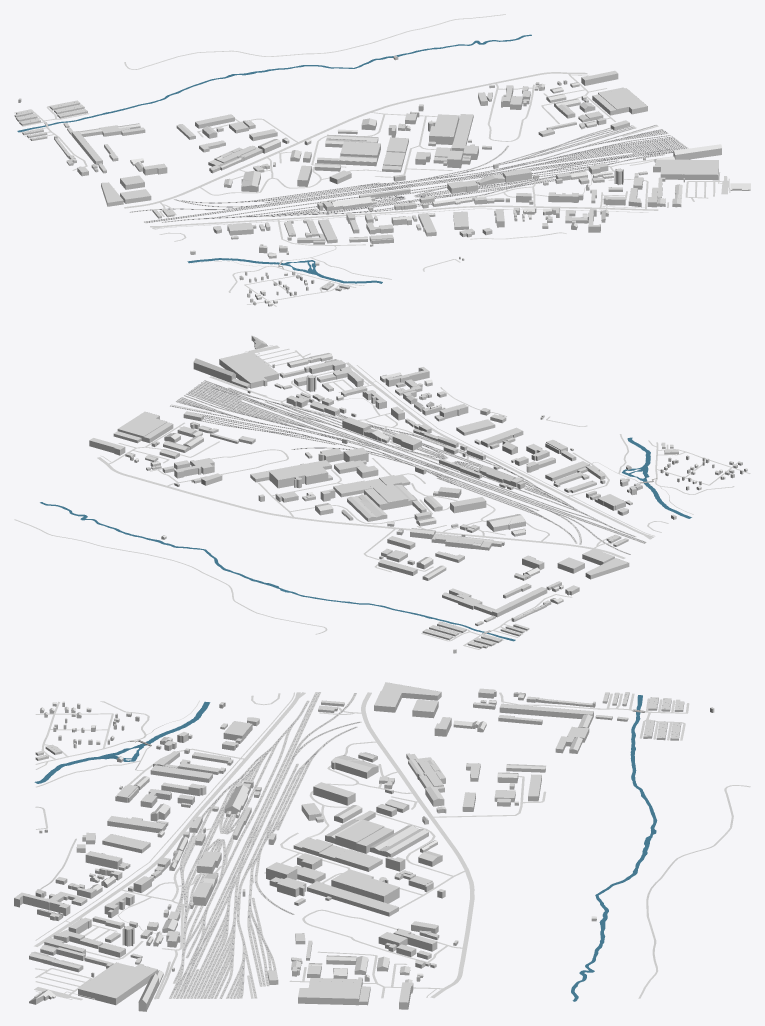
The model's file is objekty.glb.
The picture shows the model from 3 angles, top to bottom: view 1: azimuth 30°, elevation 25°; view 2: azimuth 150°, elevation 25°; view 3: azimuth 270°, elevation 25°; orthographic projection. The views are drawn at different scales.
Parts seen in each view (by area): view 1: Budovy_02_05, Cesty_02_05, Kolajnice_02_05, Okna_Dvere_02_05, Voda_02_05; view 2: Budovy_02_05, Cesty_02_05, Okna_Dvere_02_05, Kolajnice_02_05, Voda_02_05; view 3: Budovy_02_05, Cesty_02_05, Okna_Dvere_02_05, Voda_02_05, Kolajnice_02_05.
Boxes of the visible parts, <box> form: Budovy_02_05: <box>14,55,750,306</box>; Cesty_02_05: <box>14,14,730,306</box>; Kolajnice_02_05: <box>130,125,686,222</box>; Okna_Dvere_02_05: <box>16,58,741,305</box>; Voda_02_05: <box>17,34,531,283</box>; Budovy_02_05: <box>89,335,747,653</box>; Cesty_02_05: <box>14,345,750,649</box>; Okna_Dvere_02_05: <box>89,339,746,652</box>; Kolajnice_02_05: <box>170,380,645,554</box>; Voda_02_05: <box>40,437,691,641</box>; Budovy_02_05: <box>14,682,714,1011</box>; Cesty_02_05: <box>34,692,750,1000</box>; Okna_Dvere_02_05: <box>19,693,713,1010</box>; Voda_02_05: <box>34,695,657,1001</box>; Kolajnice_02_05: <box>170,693,359,998</box>.
Size of the model in its own units: 1065 by 38.14 by 1033.
